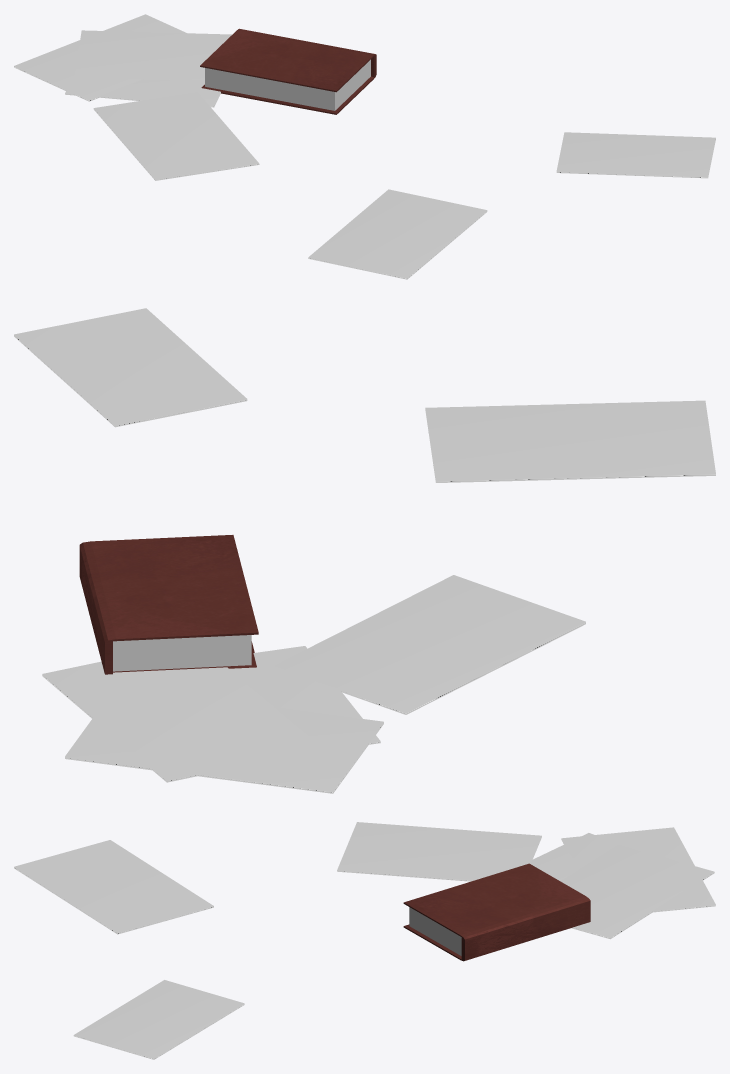
The model's file is ondeki_kagtlar.fbx.
3 views of the same model, one above another, from view 1: azimuth 30°, elevation 25°; view 2: azimuth 150°, elevation 25°; view 3: azimuth 270°, elevation 25° (orthographic). The views are drawn at different scales.
Visible parts, largest first — view 1: Cube.159, Cube.158, Cube.157, Cube.155, Cube.156, Cube.154, Cube.153; view 2: Cube.158, Cube.157, Cube.159, Cube.155, Cube.156, Cube.154, Cube.153; view 3: Cube.159, Cube.158, Cube.157, Cube.155, Cube.156, Cube.154, Cube.153.
Boxes of the visible parts, <box> form: Cube.159: <box>200,28,376,114</box>; Cube.158: <box>308,189,487,279</box>; Cube.157: <box>93,92,259,180</box>; Cube.155: <box>74,30,232,80</box>; Cube.156: <box>556,132,715,178</box>; Cube.154: <box>14,14,186,101</box>; Cube.153: <box>65,79,220,107</box>; Cube.158: <box>425,400,715,482</box>; Cube.157: <box>274,575,585,714</box>; Cube.159: <box>79,535,258,674</box>; Cube.155: <box>42,661,321,782</box>; Cube.156: <box>14,308,247,427</box>; Cube.154: <box>65,707,383,793</box>; Cube.153: <box>229,646,380,744</box>; Cube.159: <box>403,863,590,961</box>; Cube.158: <box>14,840,213,934</box>; Cube.157: <box>337,822,541,881</box>; Cube.155: <box>560,844,714,939</box>; Cube.156: <box>73,980,244,1059</box>; Cube.154: <box>561,827,715,912</box>; Cube.153: <box>530,833,593,881</box>.
Size of the model in its own units: 233 by 11.57 by 293.
3 materials, 1 textured.
